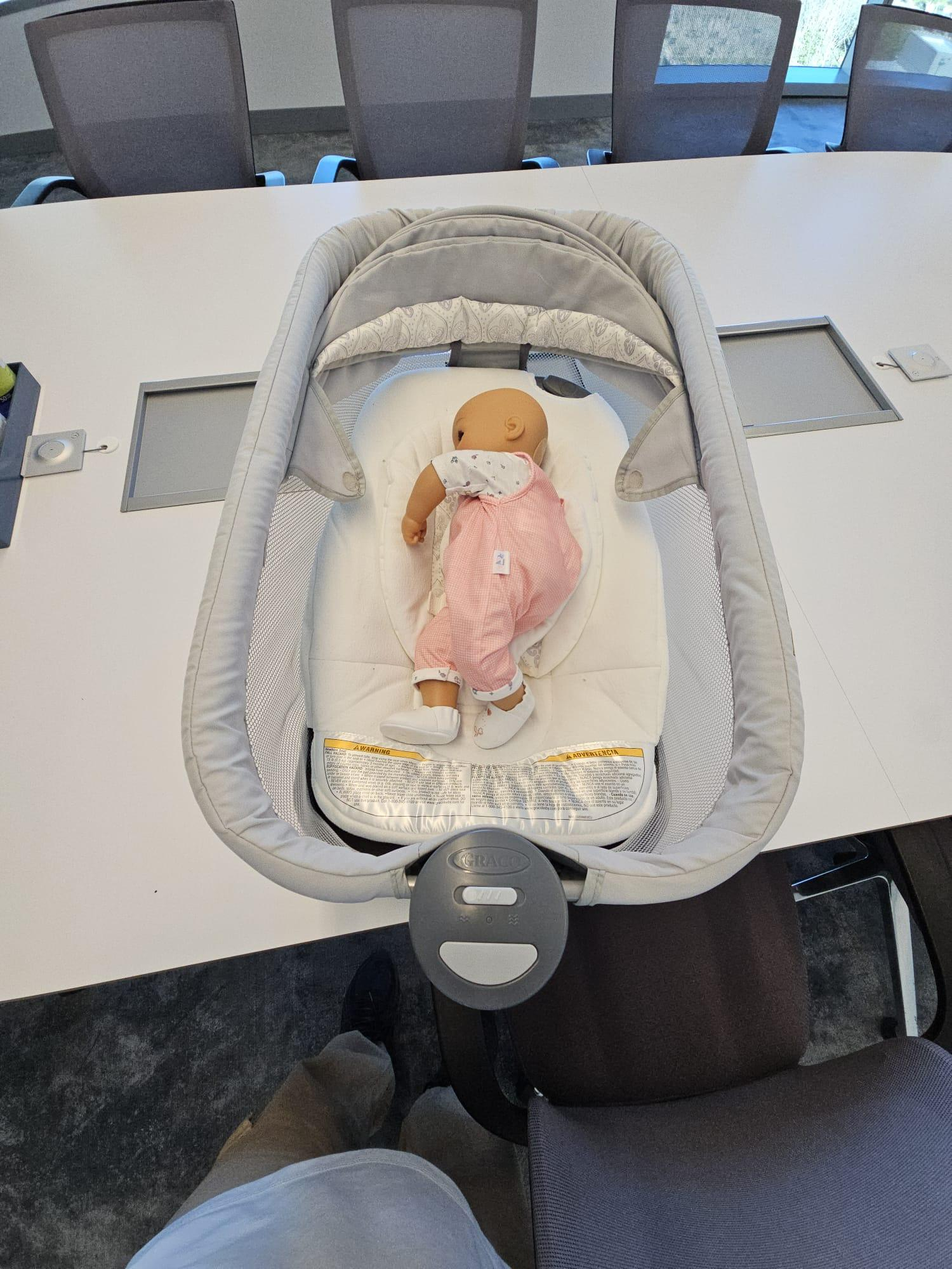baby: (390, 378, 590, 742)
